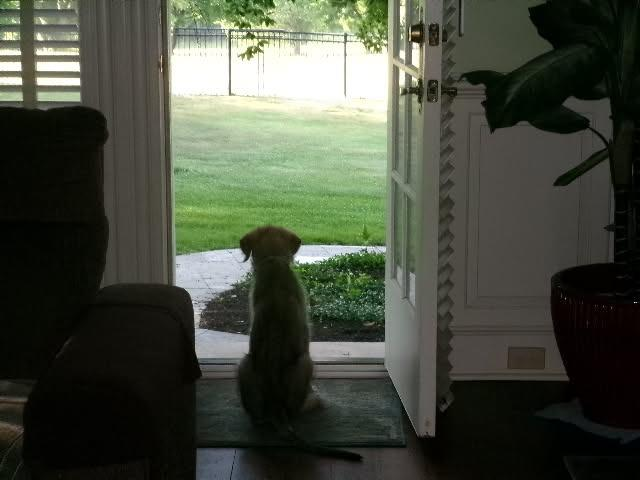adult_dog: (234, 226, 363, 463)
